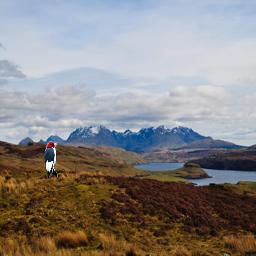Woodpecker: (44, 140, 58, 180)
